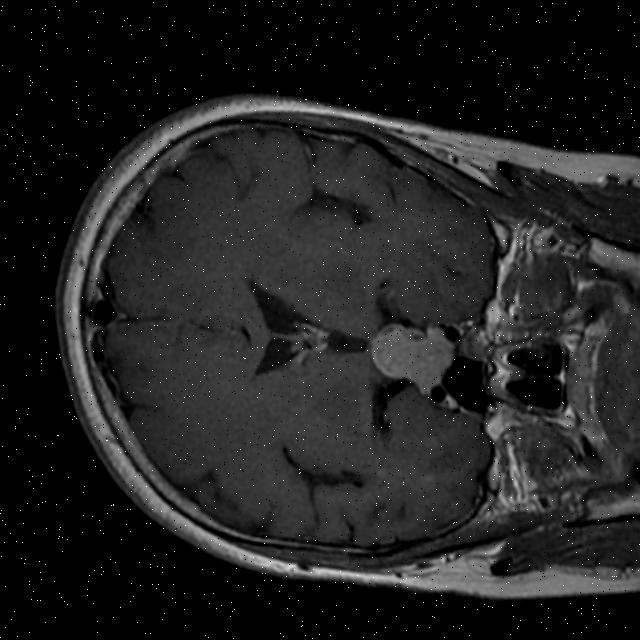Pituitary: (363, 311, 460, 395)
